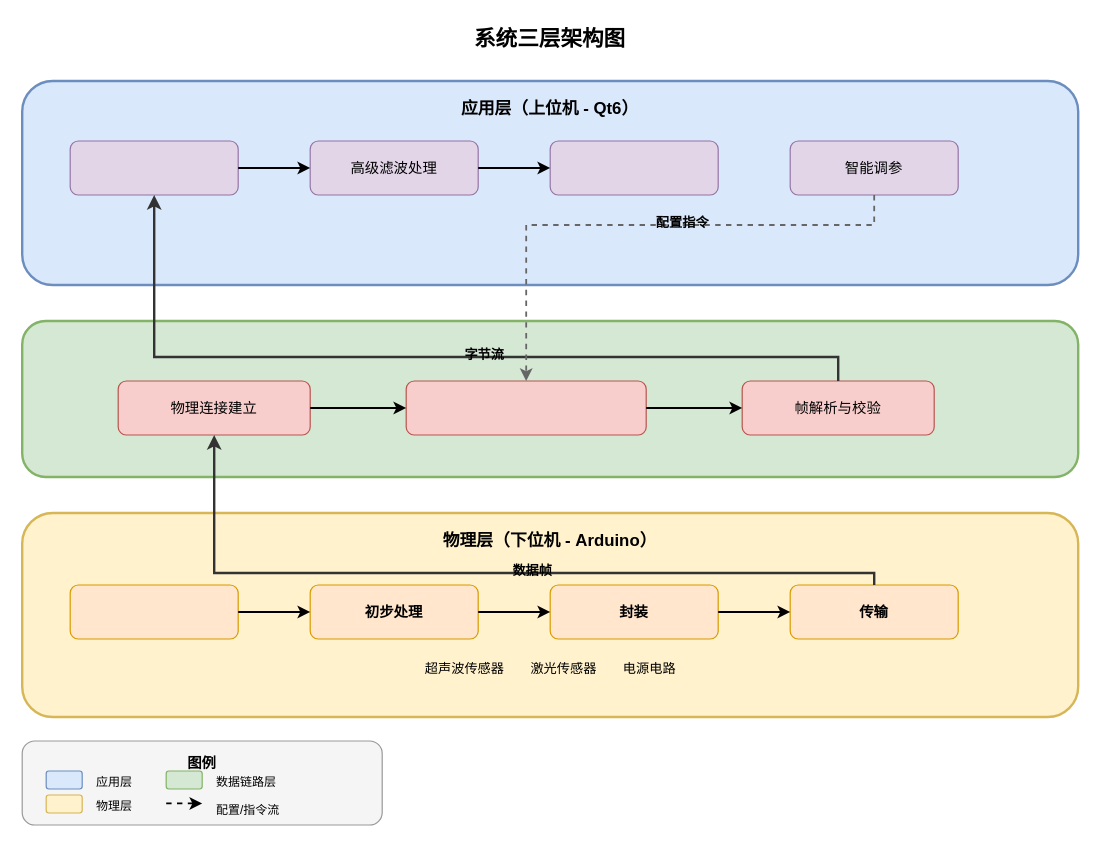
The diagram is 1099 pixels wide and 846 high, and some of its shapes have lost their labels. Here are the shapes that lost their labels. From the top down, the box of each, then its label:
(69, 140, 238, 195): 数据解析与管理
(549, 140, 718, 195): 可视化与交互
(405, 380, 646, 435): 协议约定（波特率/帧格式）
(20, 319, 1079, 478): 数据链路层（串口通信）
(69, 584, 238, 639): 感知
